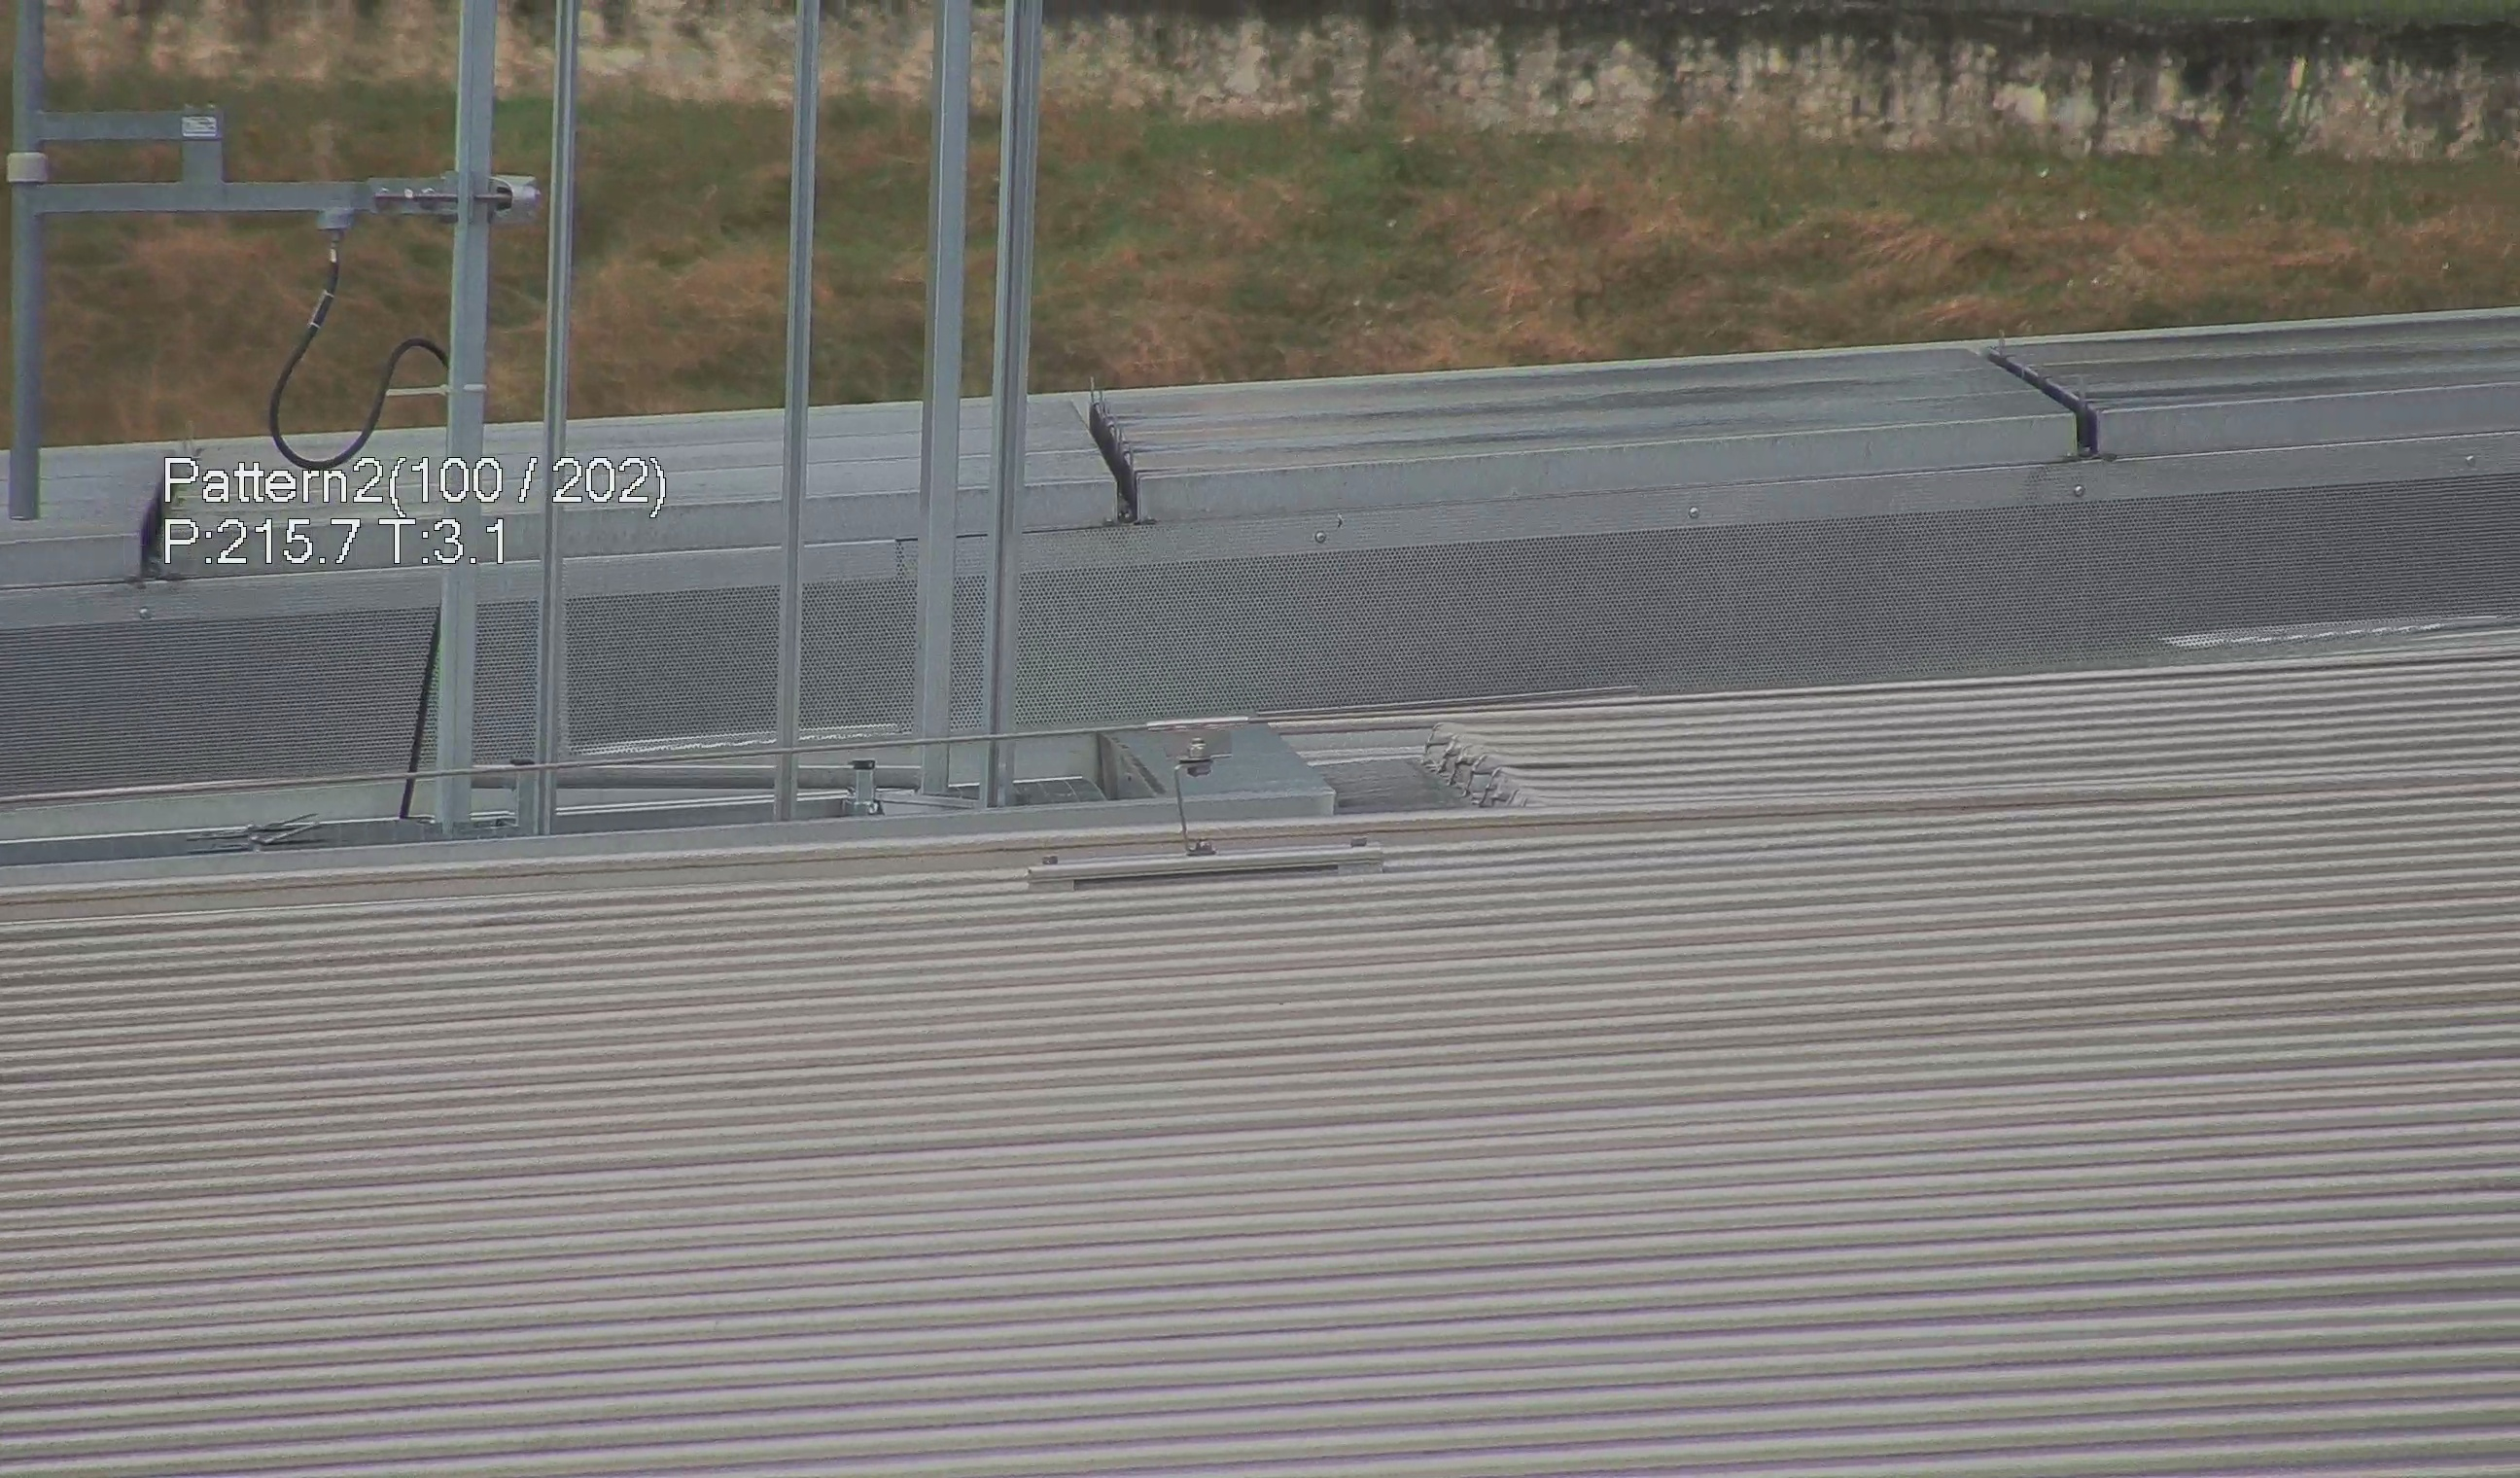Other: (1062, 380, 1155, 530)
